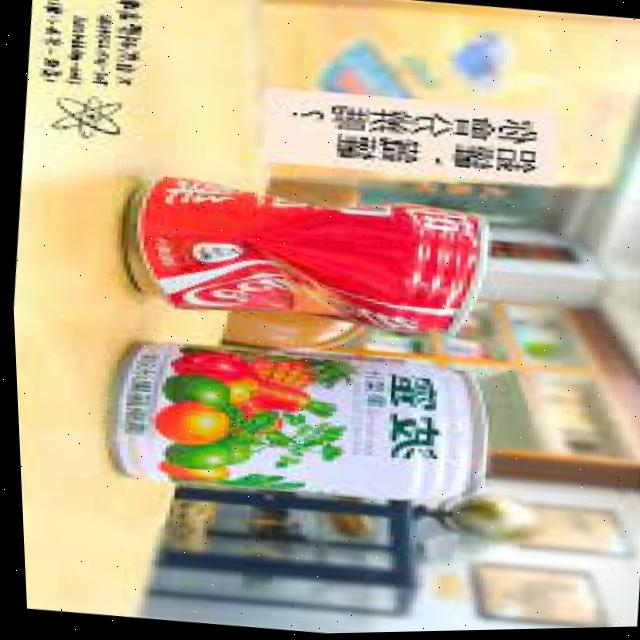Dry: (87, 326, 498, 519), (104, 161, 499, 350)
